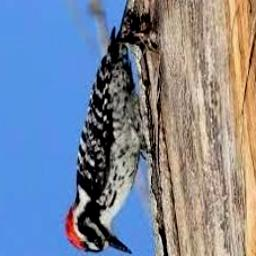Woodpecker: (64, 14, 147, 255)
